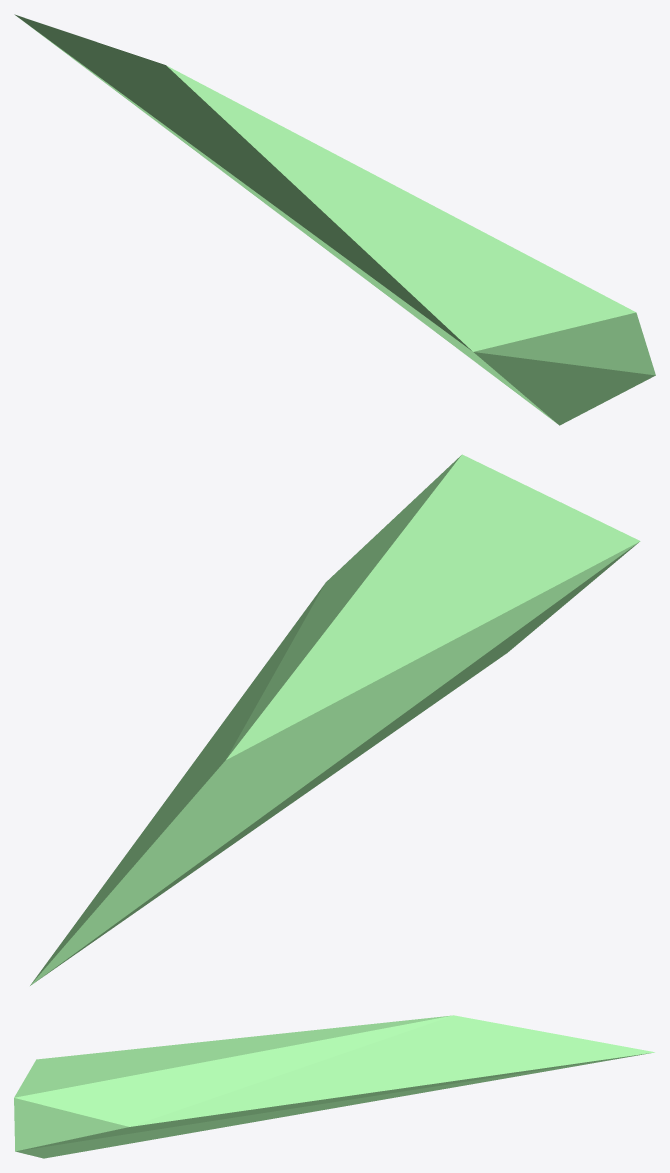
Rendered from UMIRobot_UMIRobot_link_2_convex_coll_18.dae.
3 renders of one model, top to bottom at view 1: azimuth 30°, elevation 25°; view 2: azimuth 150°, elevation 25°; view 3: azimuth 270°, elevation 25°, orthographic. The views are drawn at different scales.
Visible parts, largest first — view 1: node; view 2: node; view 3: node.
Part boxes in pixels (bbox=[...]): node: bbox=[14, 14, 655, 425]; node: bbox=[30, 454, 640, 985]; node: bbox=[14, 1015, 654, 1158].
Size of the model in its own units: 0.00949 by 0.00856 by 0.0445.
